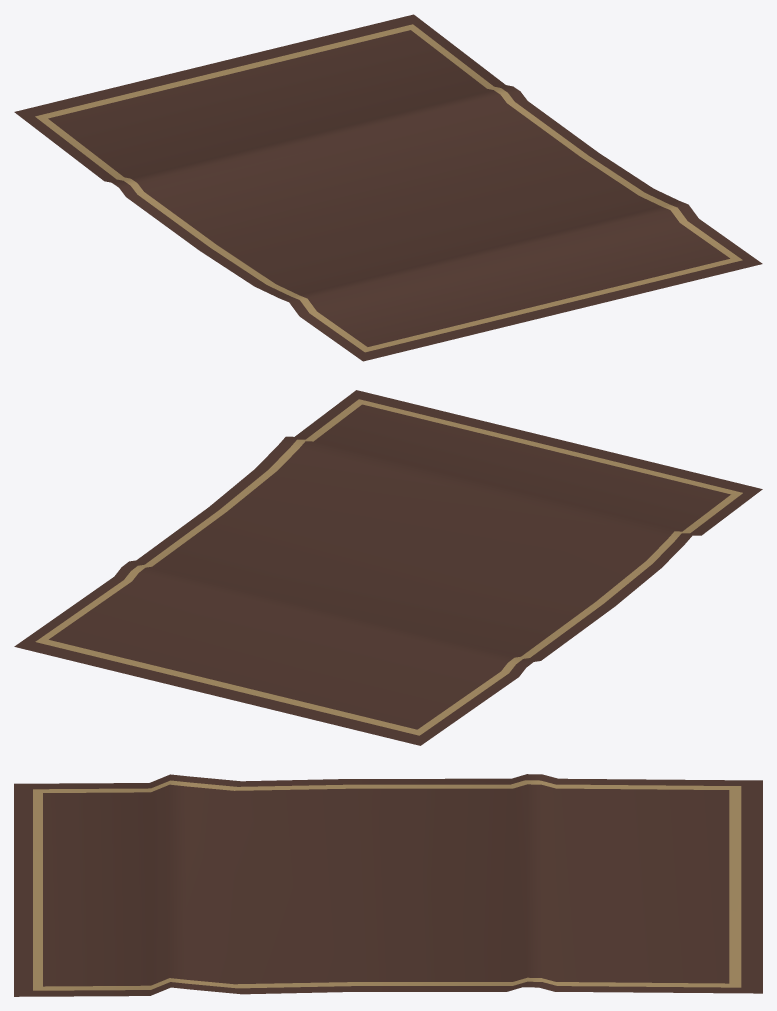
The model's file is carpet-1.glb.
3 views of the same model, one above another, from view 1: azimuth 30°, elevation 25°; view 2: azimuth 150°, elevation 25°; view 3: azimuth 270°, elevation 25° (orthographic). The views are drawn at different scales.
Visible parts, largest first — view 1: Carpet_1; view 2: Carpet_1; view 3: Carpet_1.
Part boxes in pixels (<box>): Carpet_1: <box>14,14,762,361</box>; Carpet_1: <box>14,390,762,745</box>; Carpet_1: <box>14,774,762,996</box>.
Size of the model in its own units: 2.13 by 0.0366 by 3.09.
